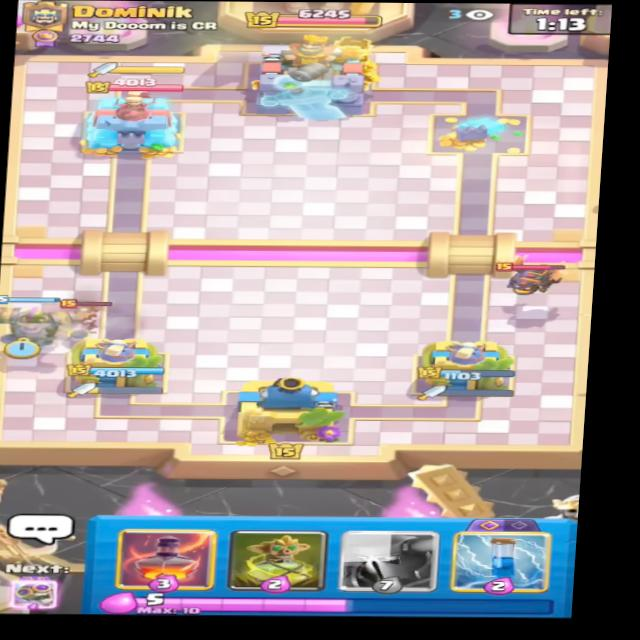lava-hound: (476, 253, 581, 295)
valkyrie: (56, 289, 124, 327)
